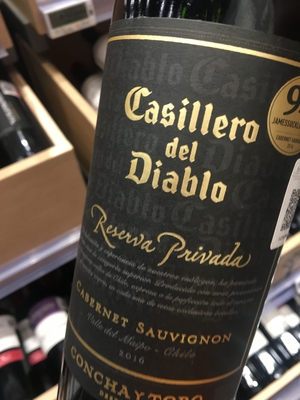casillero del diablo reserva privada cabernet sauvignon: (65, 12, 296, 400)
